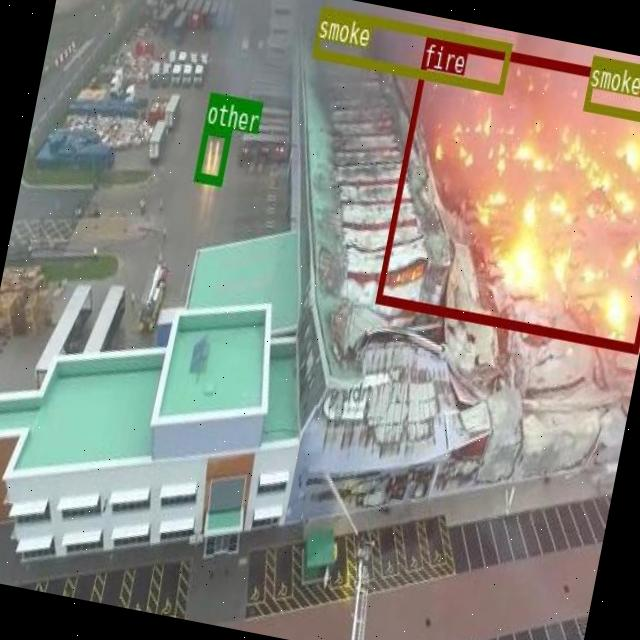fire: (374, 34, 640, 352)
smoke: (312, 4, 512, 92), (582, 54, 640, 126)
